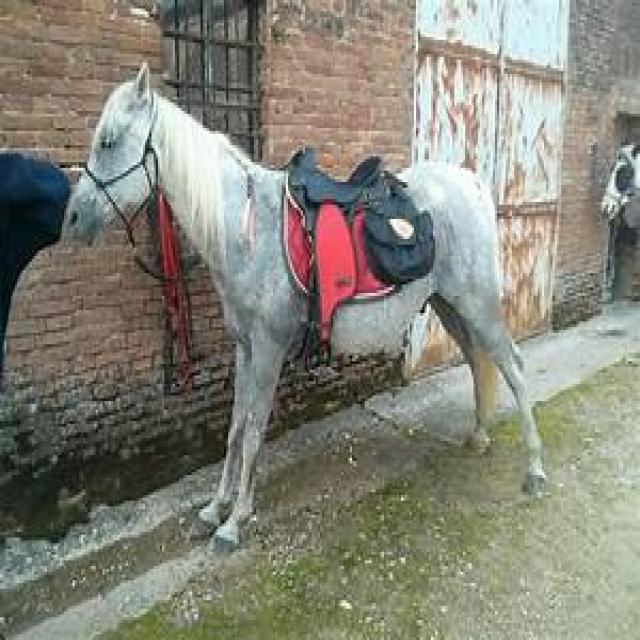horse: (60, 65, 546, 552)
